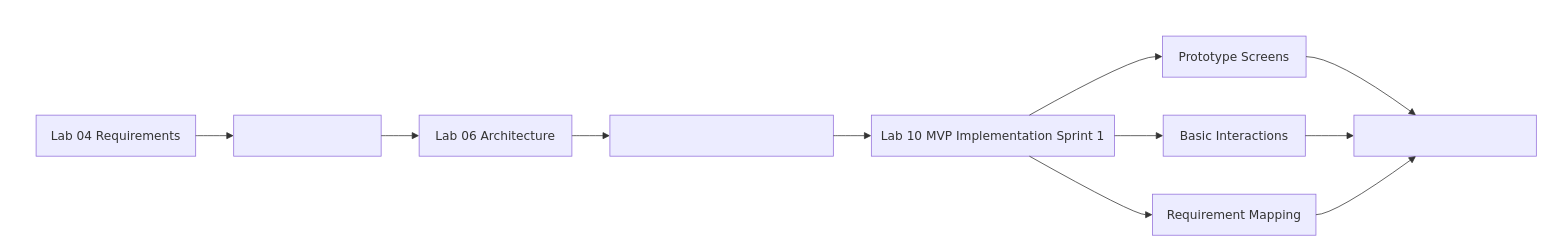
Image size: 1550x249. Some labels were removed from this diagram. Each missing label, with the box of its shape:
Final Prototype Direction: (1353, 114, 1536, 156)
Lab 05 Wireframes: (233, 114, 381, 156)
Lab 09 Responsible Design Check: (609, 114, 833, 156)
